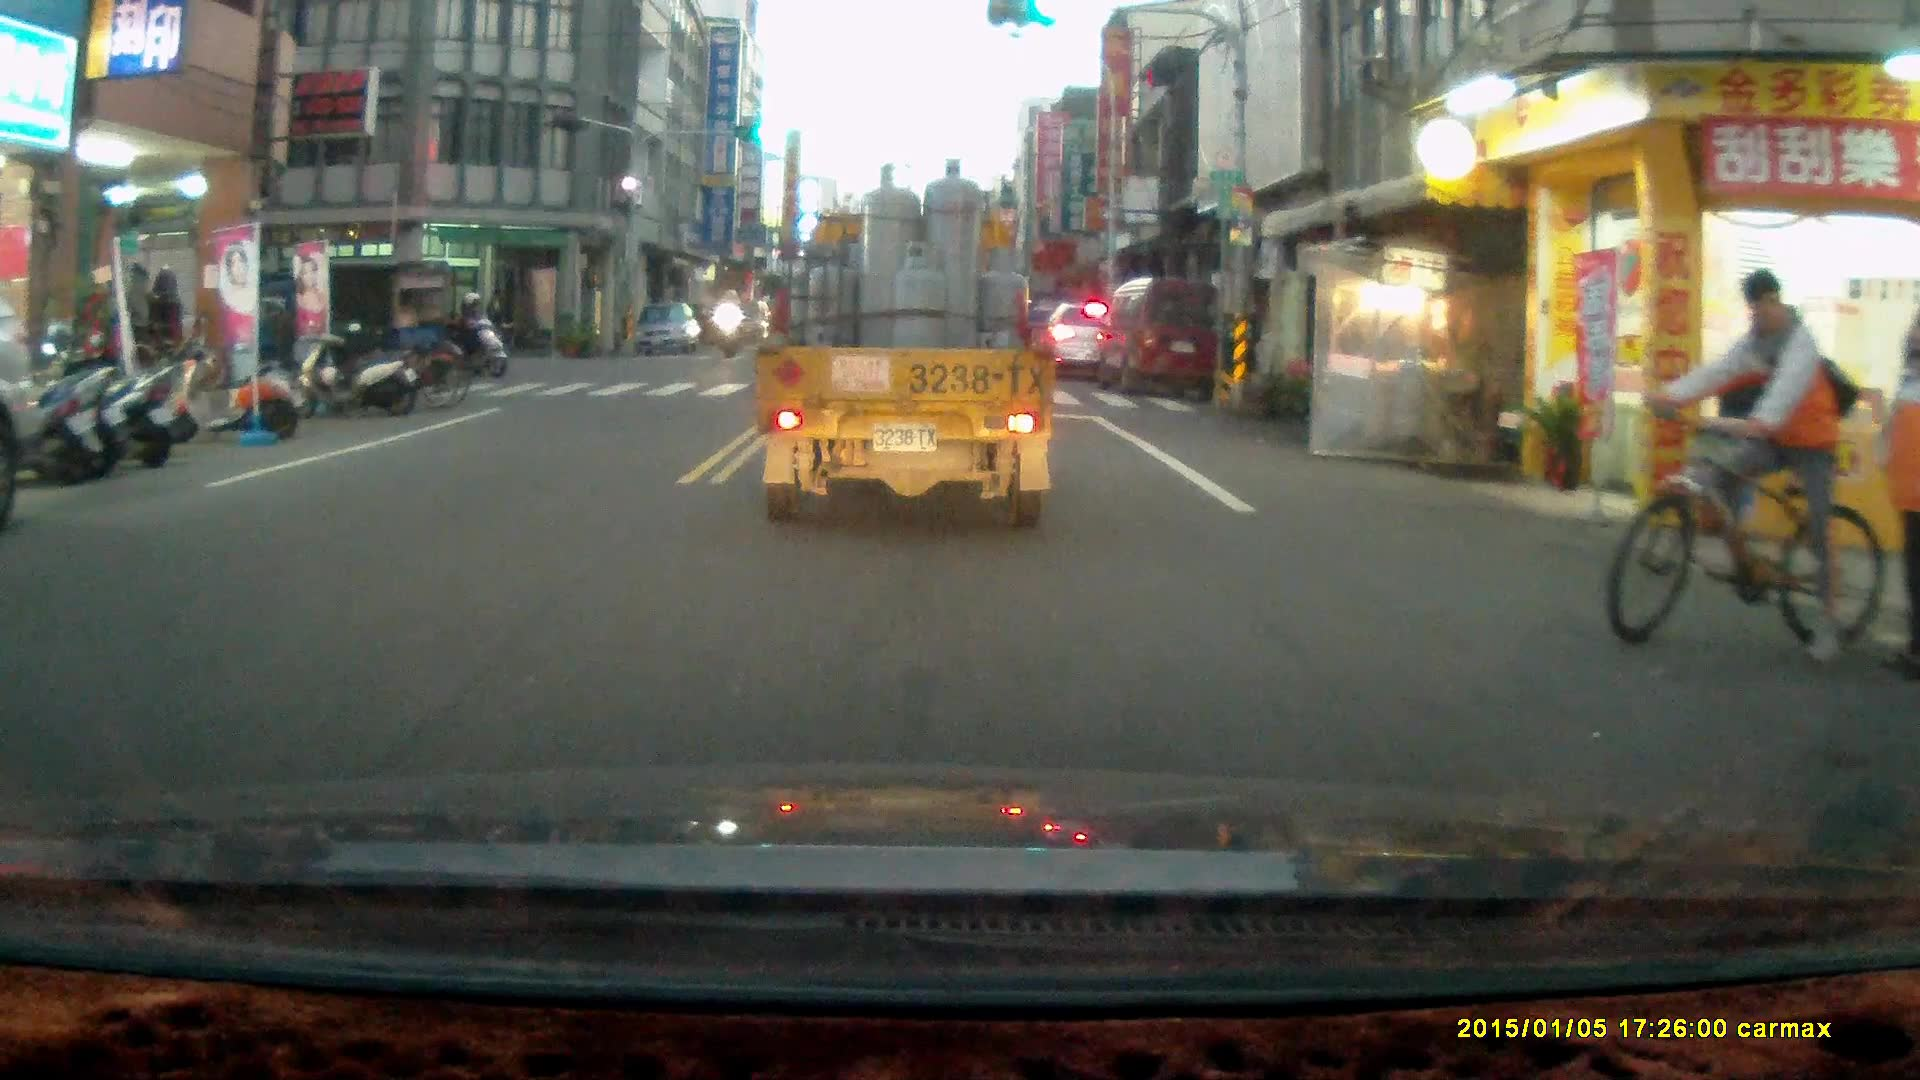pedestrian: (1872, 299, 1920, 684), (146, 266, 182, 378)
rider: (1607, 267, 1885, 667), (439, 284, 508, 376), (714, 280, 754, 354)
vehicle: (753, 160, 1049, 525), (230, 247, 462, 378), (1094, 276, 1224, 398), (1045, 301, 1120, 380), (633, 301, 702, 354)
